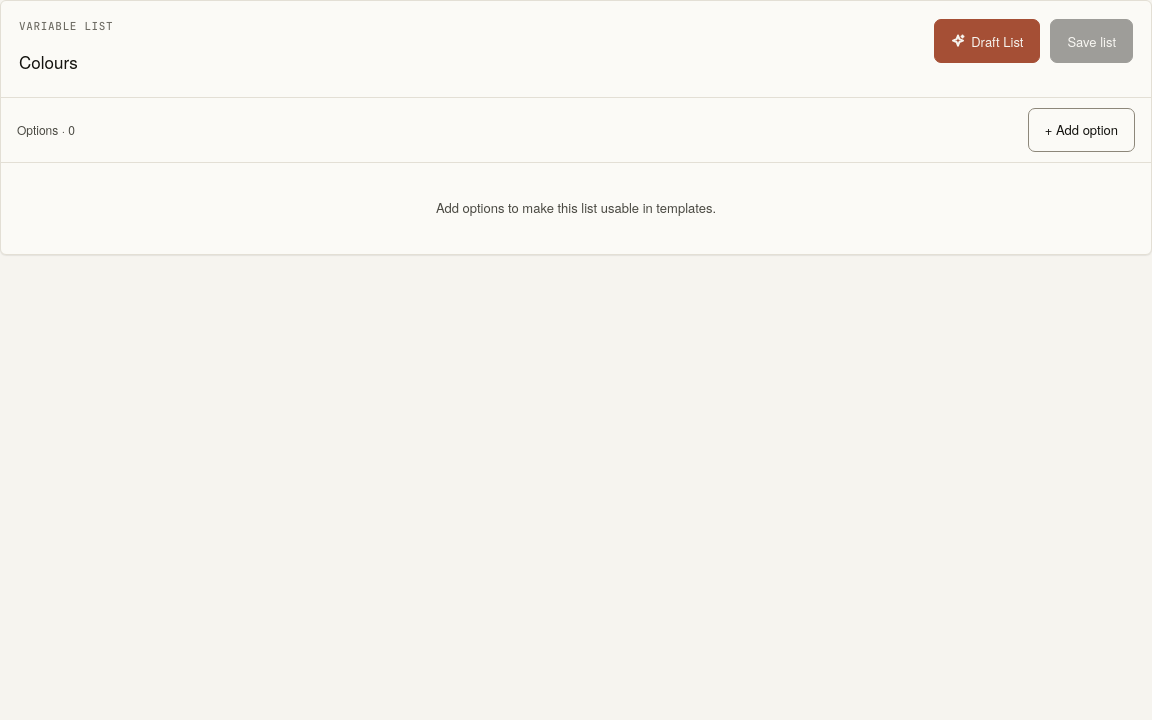
Test: ListEditor — AI Draft List › empty list opens the seed dialog without firing the draft mutation
This screenshot has width=1152, height=720.
Step 1. Click the button "Draft List" → (987, 41), box x1=934 y1=19 x2=1040 y2=63
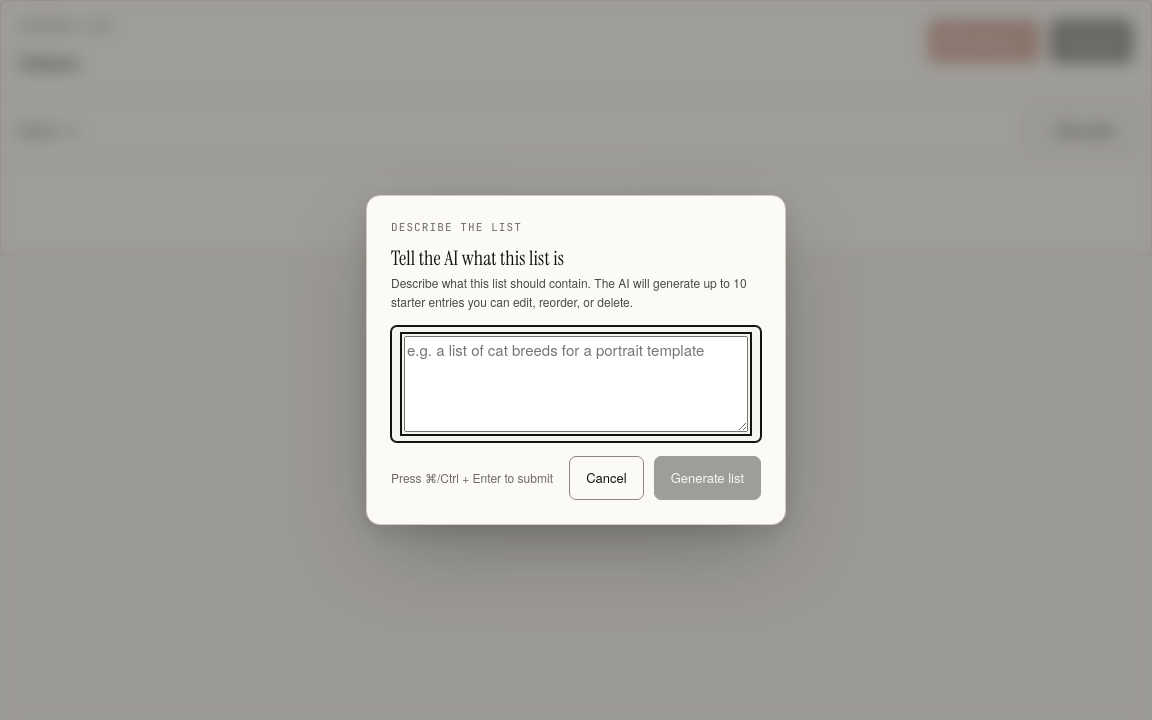
Result: the button "Drafting…" is shown at x1=928 y1=19 x2=1040 y2=63
Result: the dialog is shown
Result: the text "Describe what this list should contain. The AI will generate up to 10 starter entries you can edit, reorder, or delete." is shown at x1=391 y1=274 x2=747 y2=310
